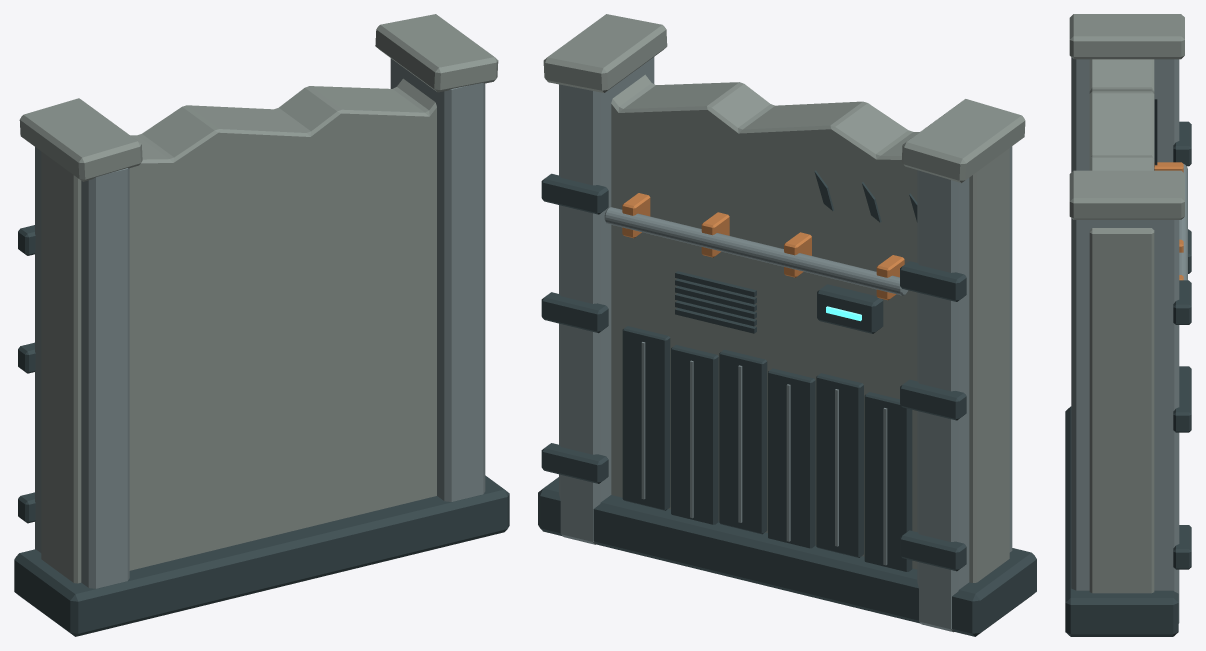
Rendered from ruin_wall_full.glb.
3 views of the same model, side by side, from view 1: azimuth 30°, elevation 25°; view 2: azimuth 150°, elevation 25°; view 3: azimuth 270°, elevation 25° (orthographic). The views are drawn at different scales.
Visible parts, largest first — view 1: ruin_wall_full_Surface; view 2: ruin_wall_full_Surface; view 3: ruin_wall_full_Surface.
Boxes of the visible parts, left/top/right/bottom form: ruin_wall_full_Surface: left=14, top=14, right=509, bottom=636; ruin_wall_full_Surface: left=538, top=14, right=1036, bottom=636; ruin_wall_full_Surface: left=1065, top=14, right=1191, bottom=636.
Bounding box in the file's own units: 4.3 × 4.48 × 1.17.
1 material, 1 textured.
